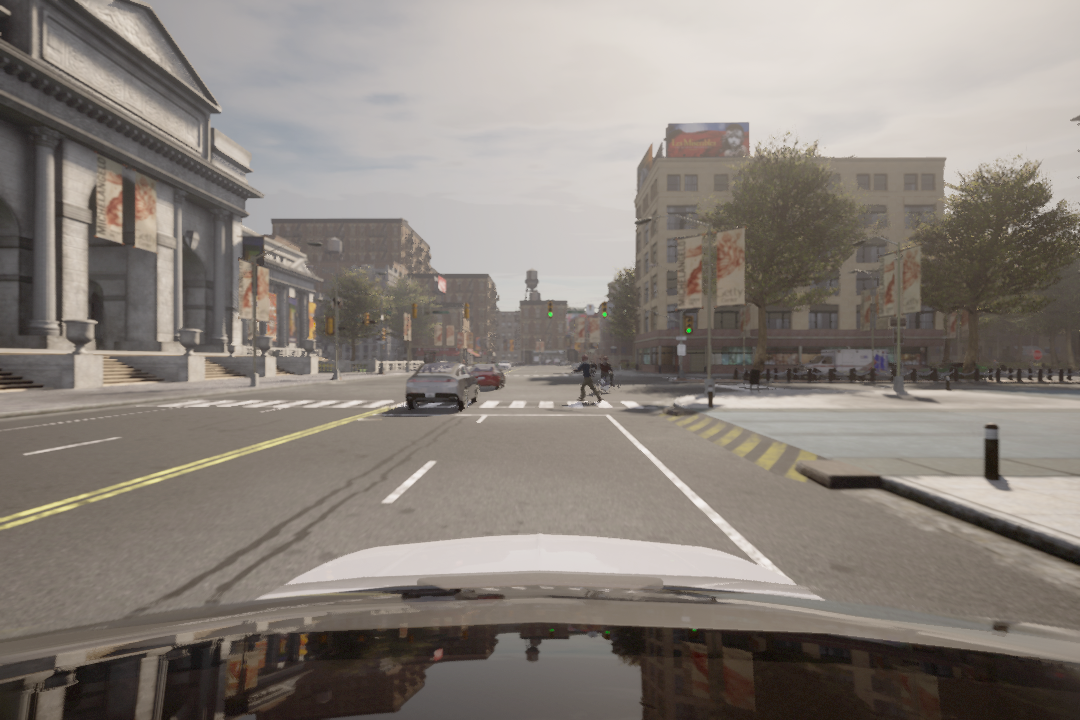TrafficLight: (684, 311, 695, 337), (601, 300, 609, 318), (547, 302, 554, 320)
walkside: (139, 397, 666, 417)
